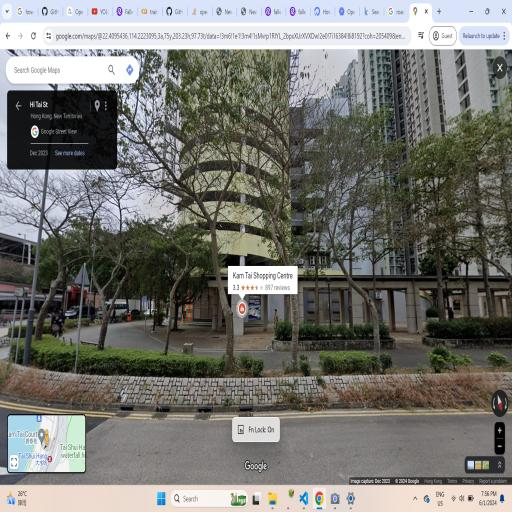Trees: (322, 122, 394, 378), (448, 107, 510, 331), (414, 135, 455, 323), (84, 222, 146, 346), (163, 218, 208, 347)
